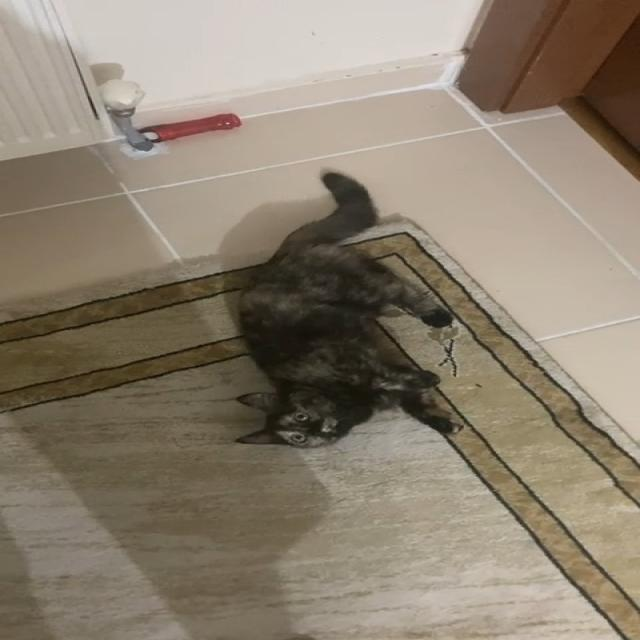authorized: (231, 170, 464, 448)
